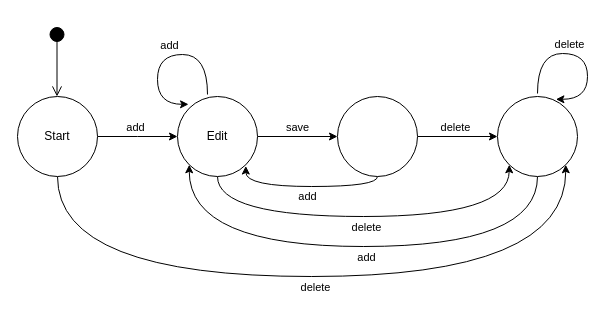
Image size: 605x311. Some labels were removed from this diagram. Each missing label, with the box of its shape:
Created: (336, 96, 418, 176)
Deleted: (496, 96, 578, 176)
